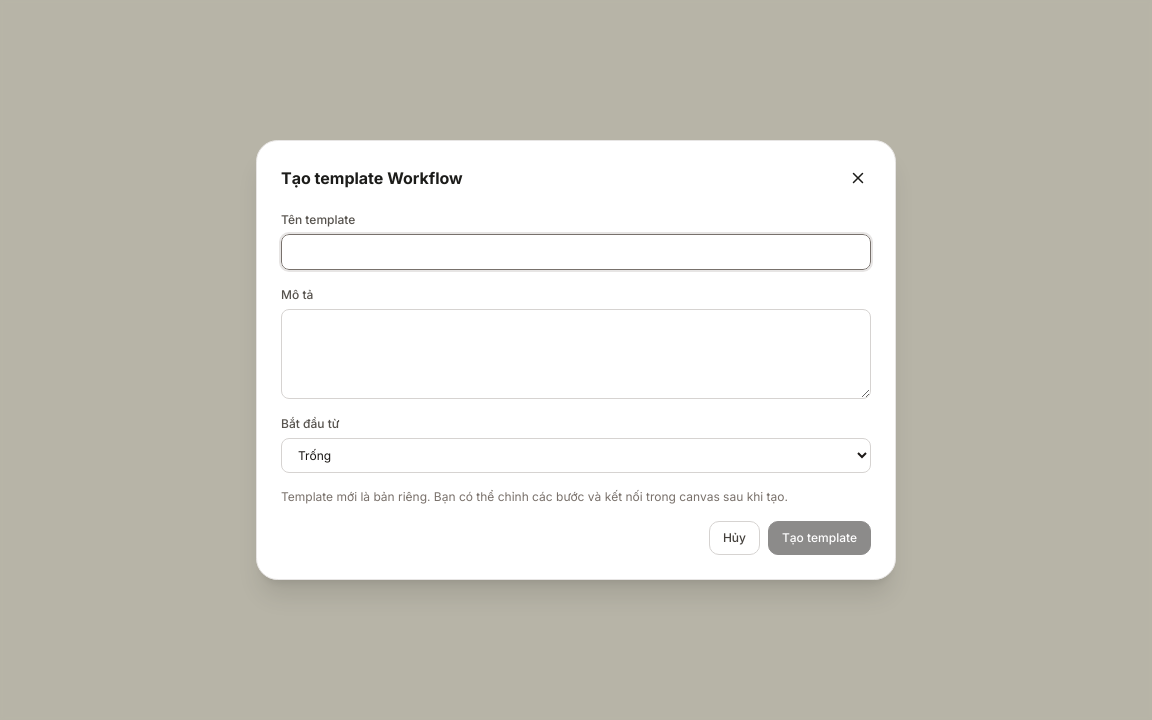
Test: creation error keeps entered values and dialog available
Type "Retry me" into the field labelled "Tên template". click: (576, 252)
box: [281,234,871,270]
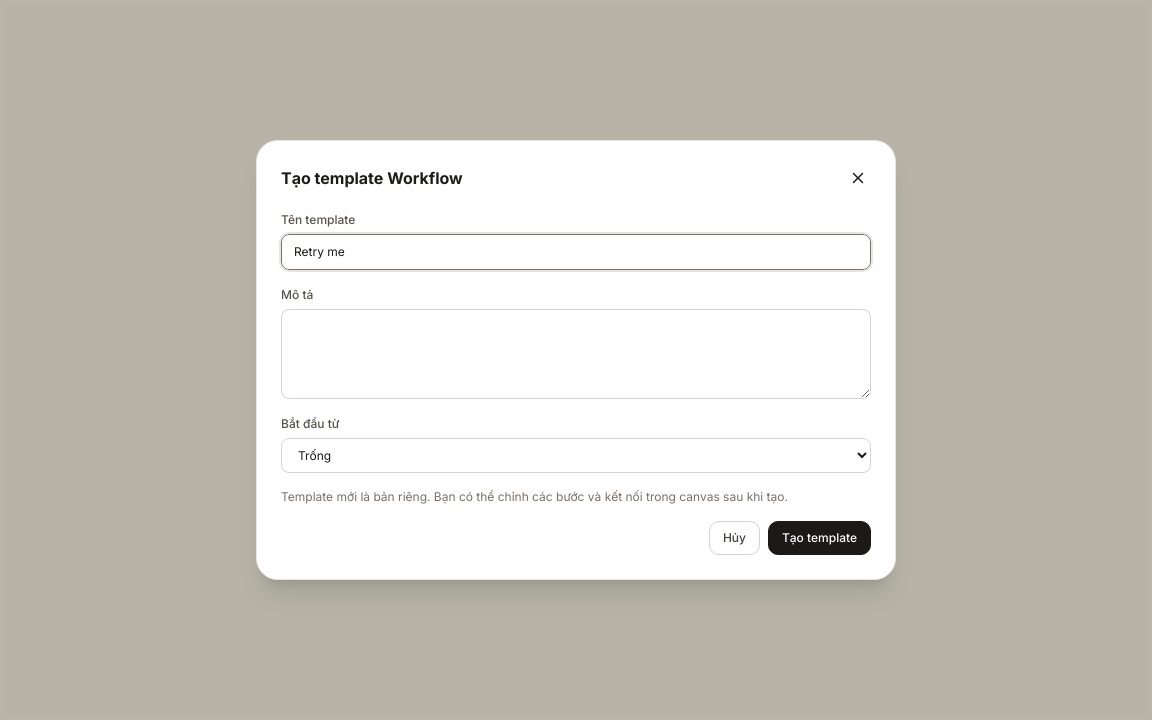
Click the button "Tạo template". click: (820, 538)
box: [768,521,871,555]
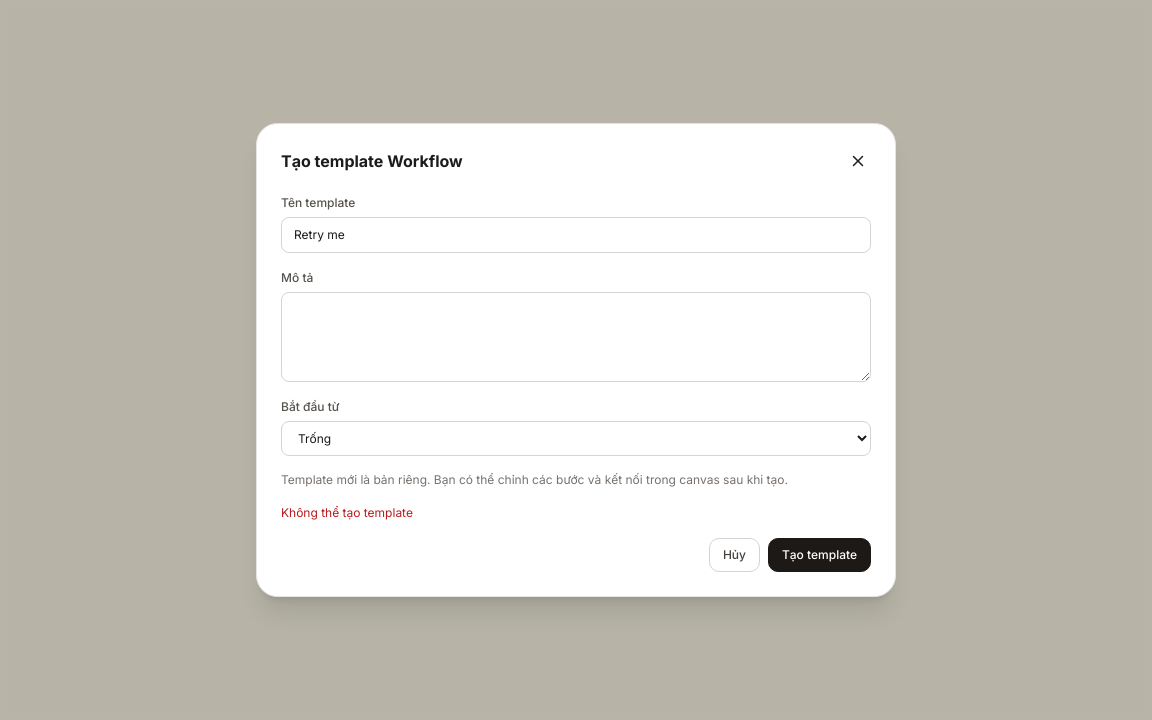
Now the message reads "Không thể tạo template", box [281,505,413,520]
